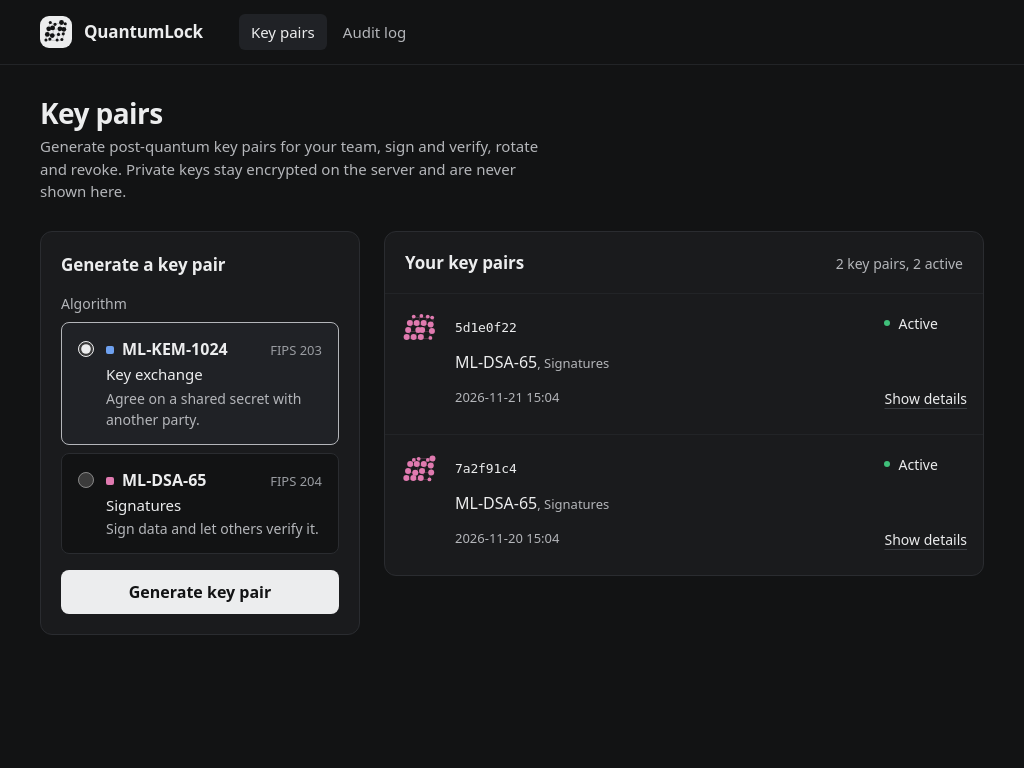
Test case: Audit log page › "View audit log" on a key pair opens its filtered log
Expected: the table is shown, left=385, top=293, right=983, bottom=575
Click the button with aria-label "Show details of 5d1e0f22".
click(926, 398)  # box left=884, top=376, right=967, bottom=420
(page scrolled)
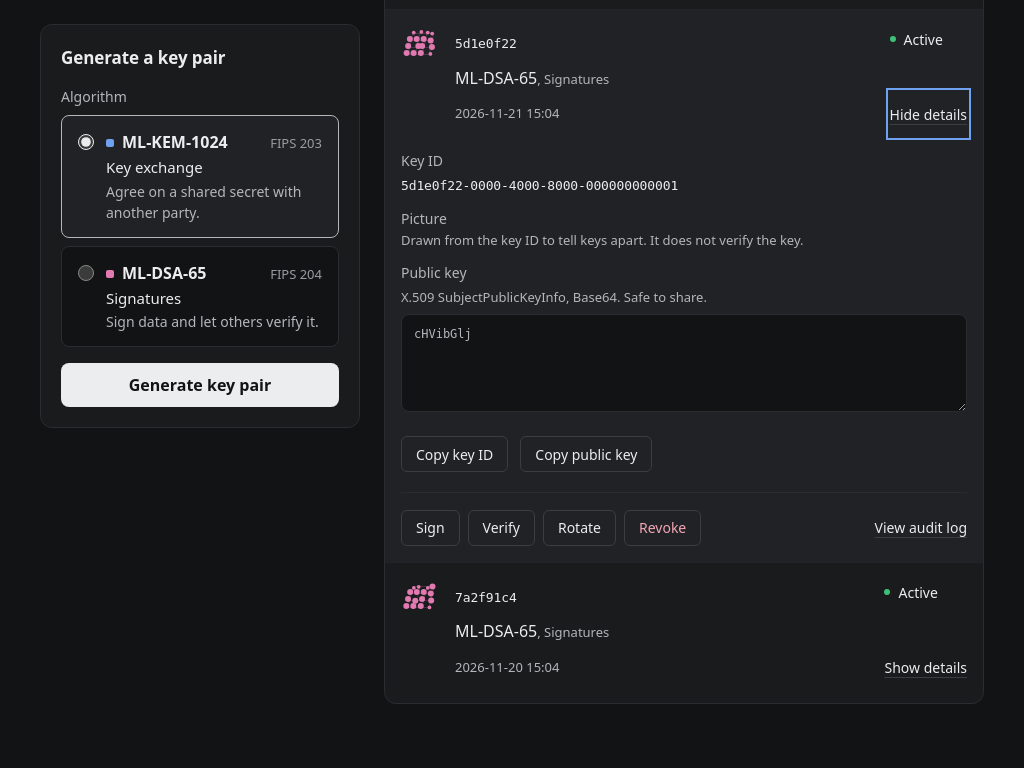
Click the link "View audit log".
click(921, 528)  # box left=875, top=518, right=967, bottom=537
(page scrolled)
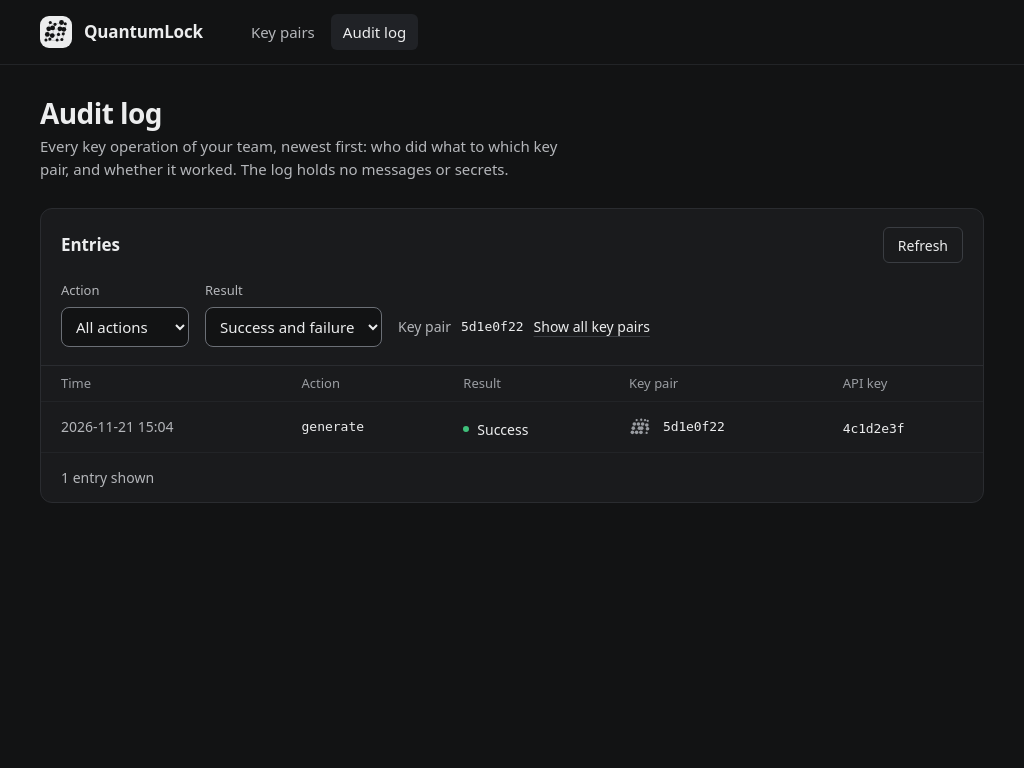
Now the heading "Audit log" is shown, box left=40, top=94, right=162, bottom=132
